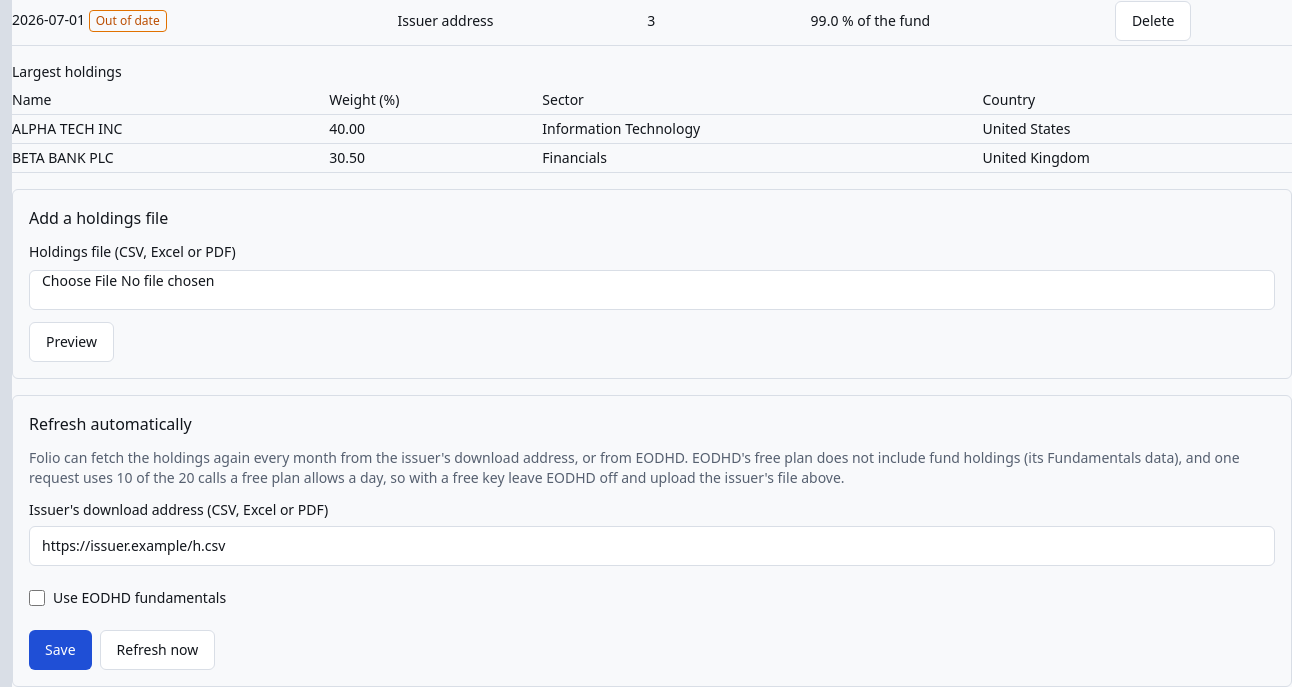
Test: what a fund holds (FR-MD-09) › saves where the holdings are refreshed from and can ask for a refresh now
(page scrolled)
Step 1. Replace the text in the field labelled "Issuer's download address (CSV, Excel or PDF)" with "https://issuer.example/h2.csv" → (652, 546), box [29,526,1275,566]
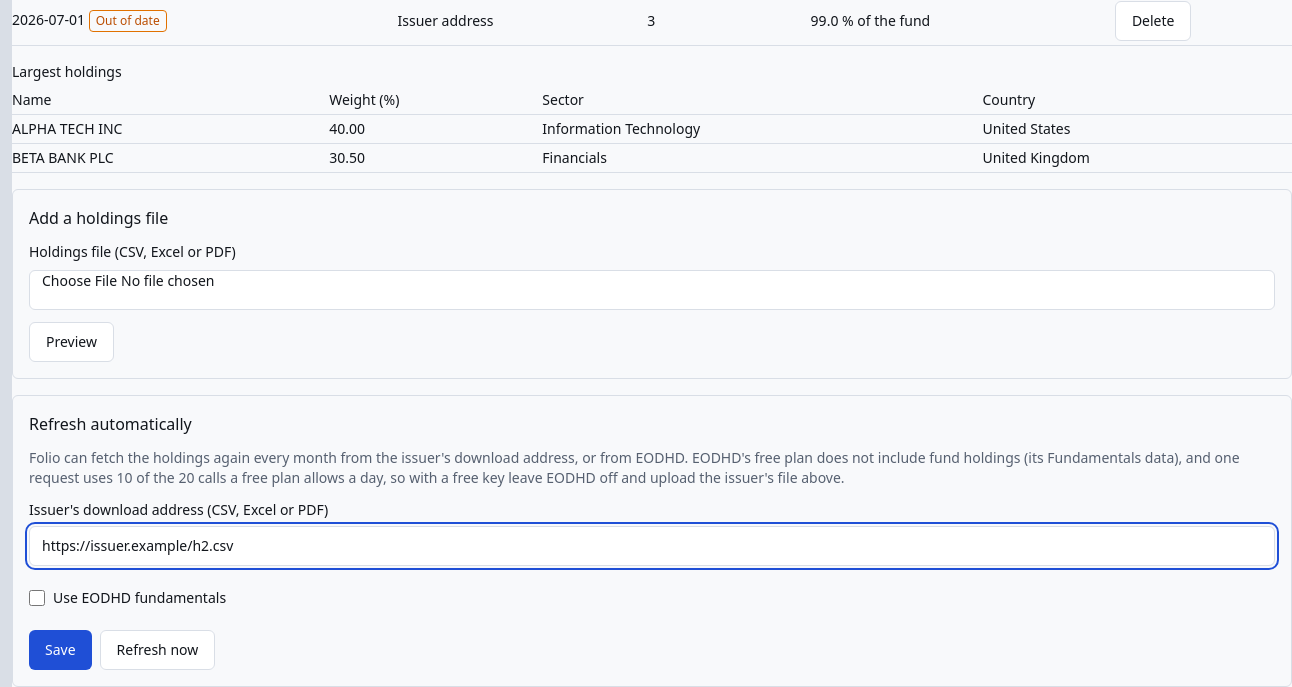
Step 2. Click the checkbox labelled "Use EODHD fundamentals" → (37, 598), box [29,590,45,606]
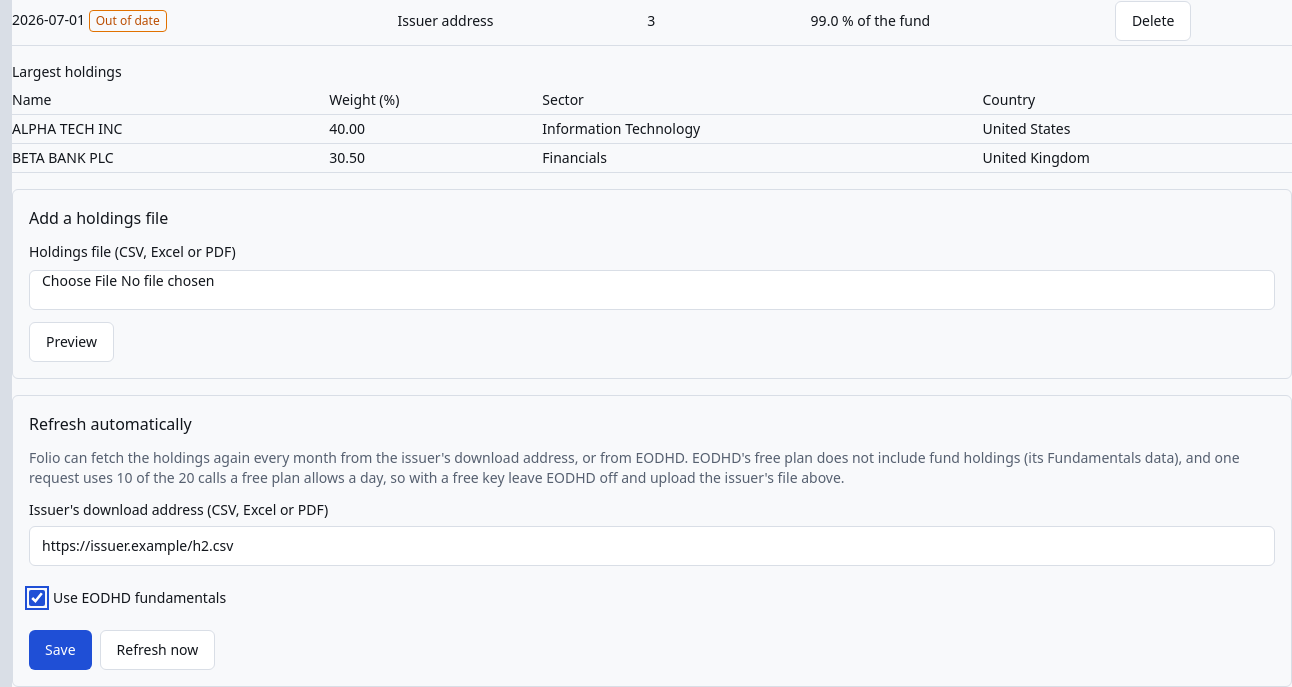
Step 3. Click the button "Save" → (60, 650), box [29,630,92,670]
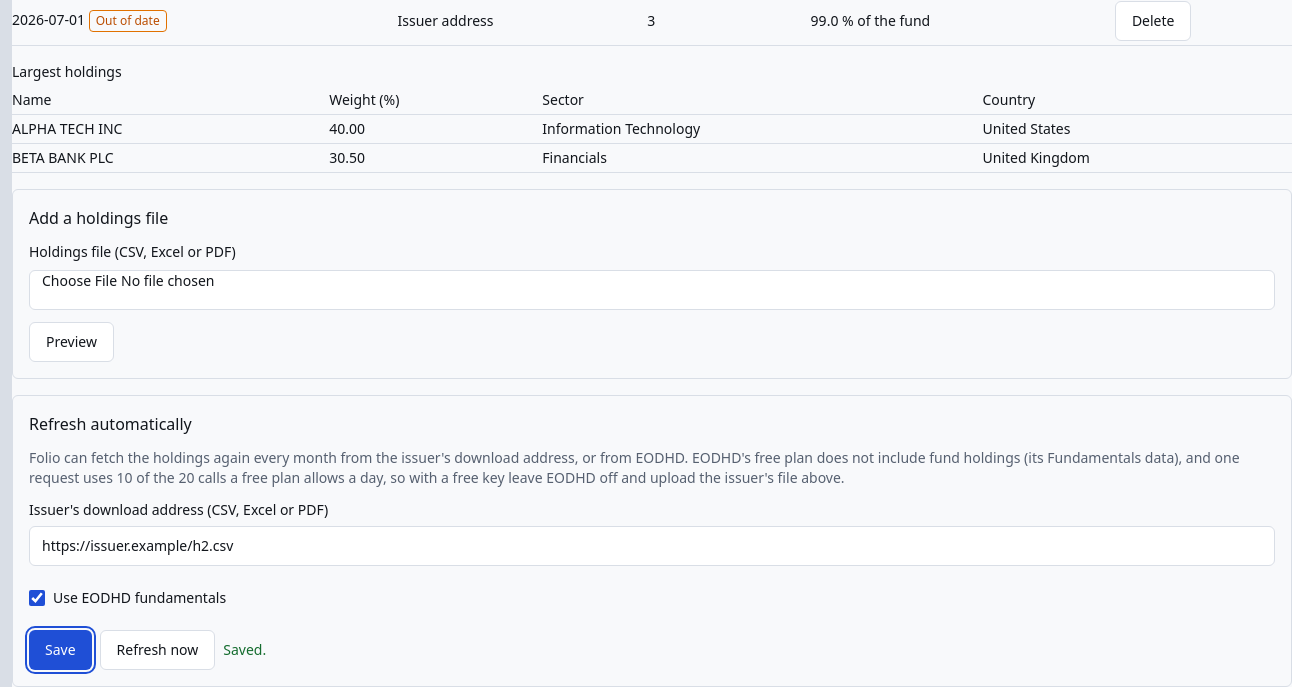
Step 4. Click the button "Refresh now" → (157, 650), box [100,630,215,670]
(page scrolled)
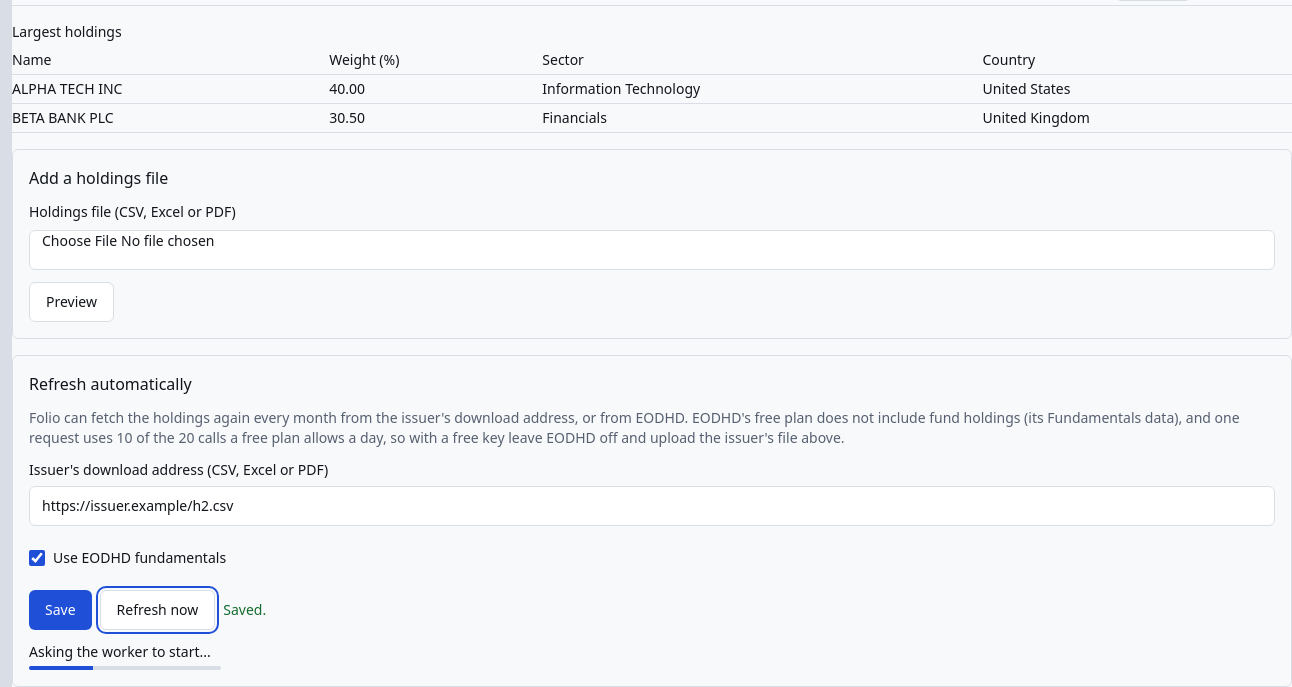
Now the text "Asking the worker to start..." is shown, box [29,642,211,661]
